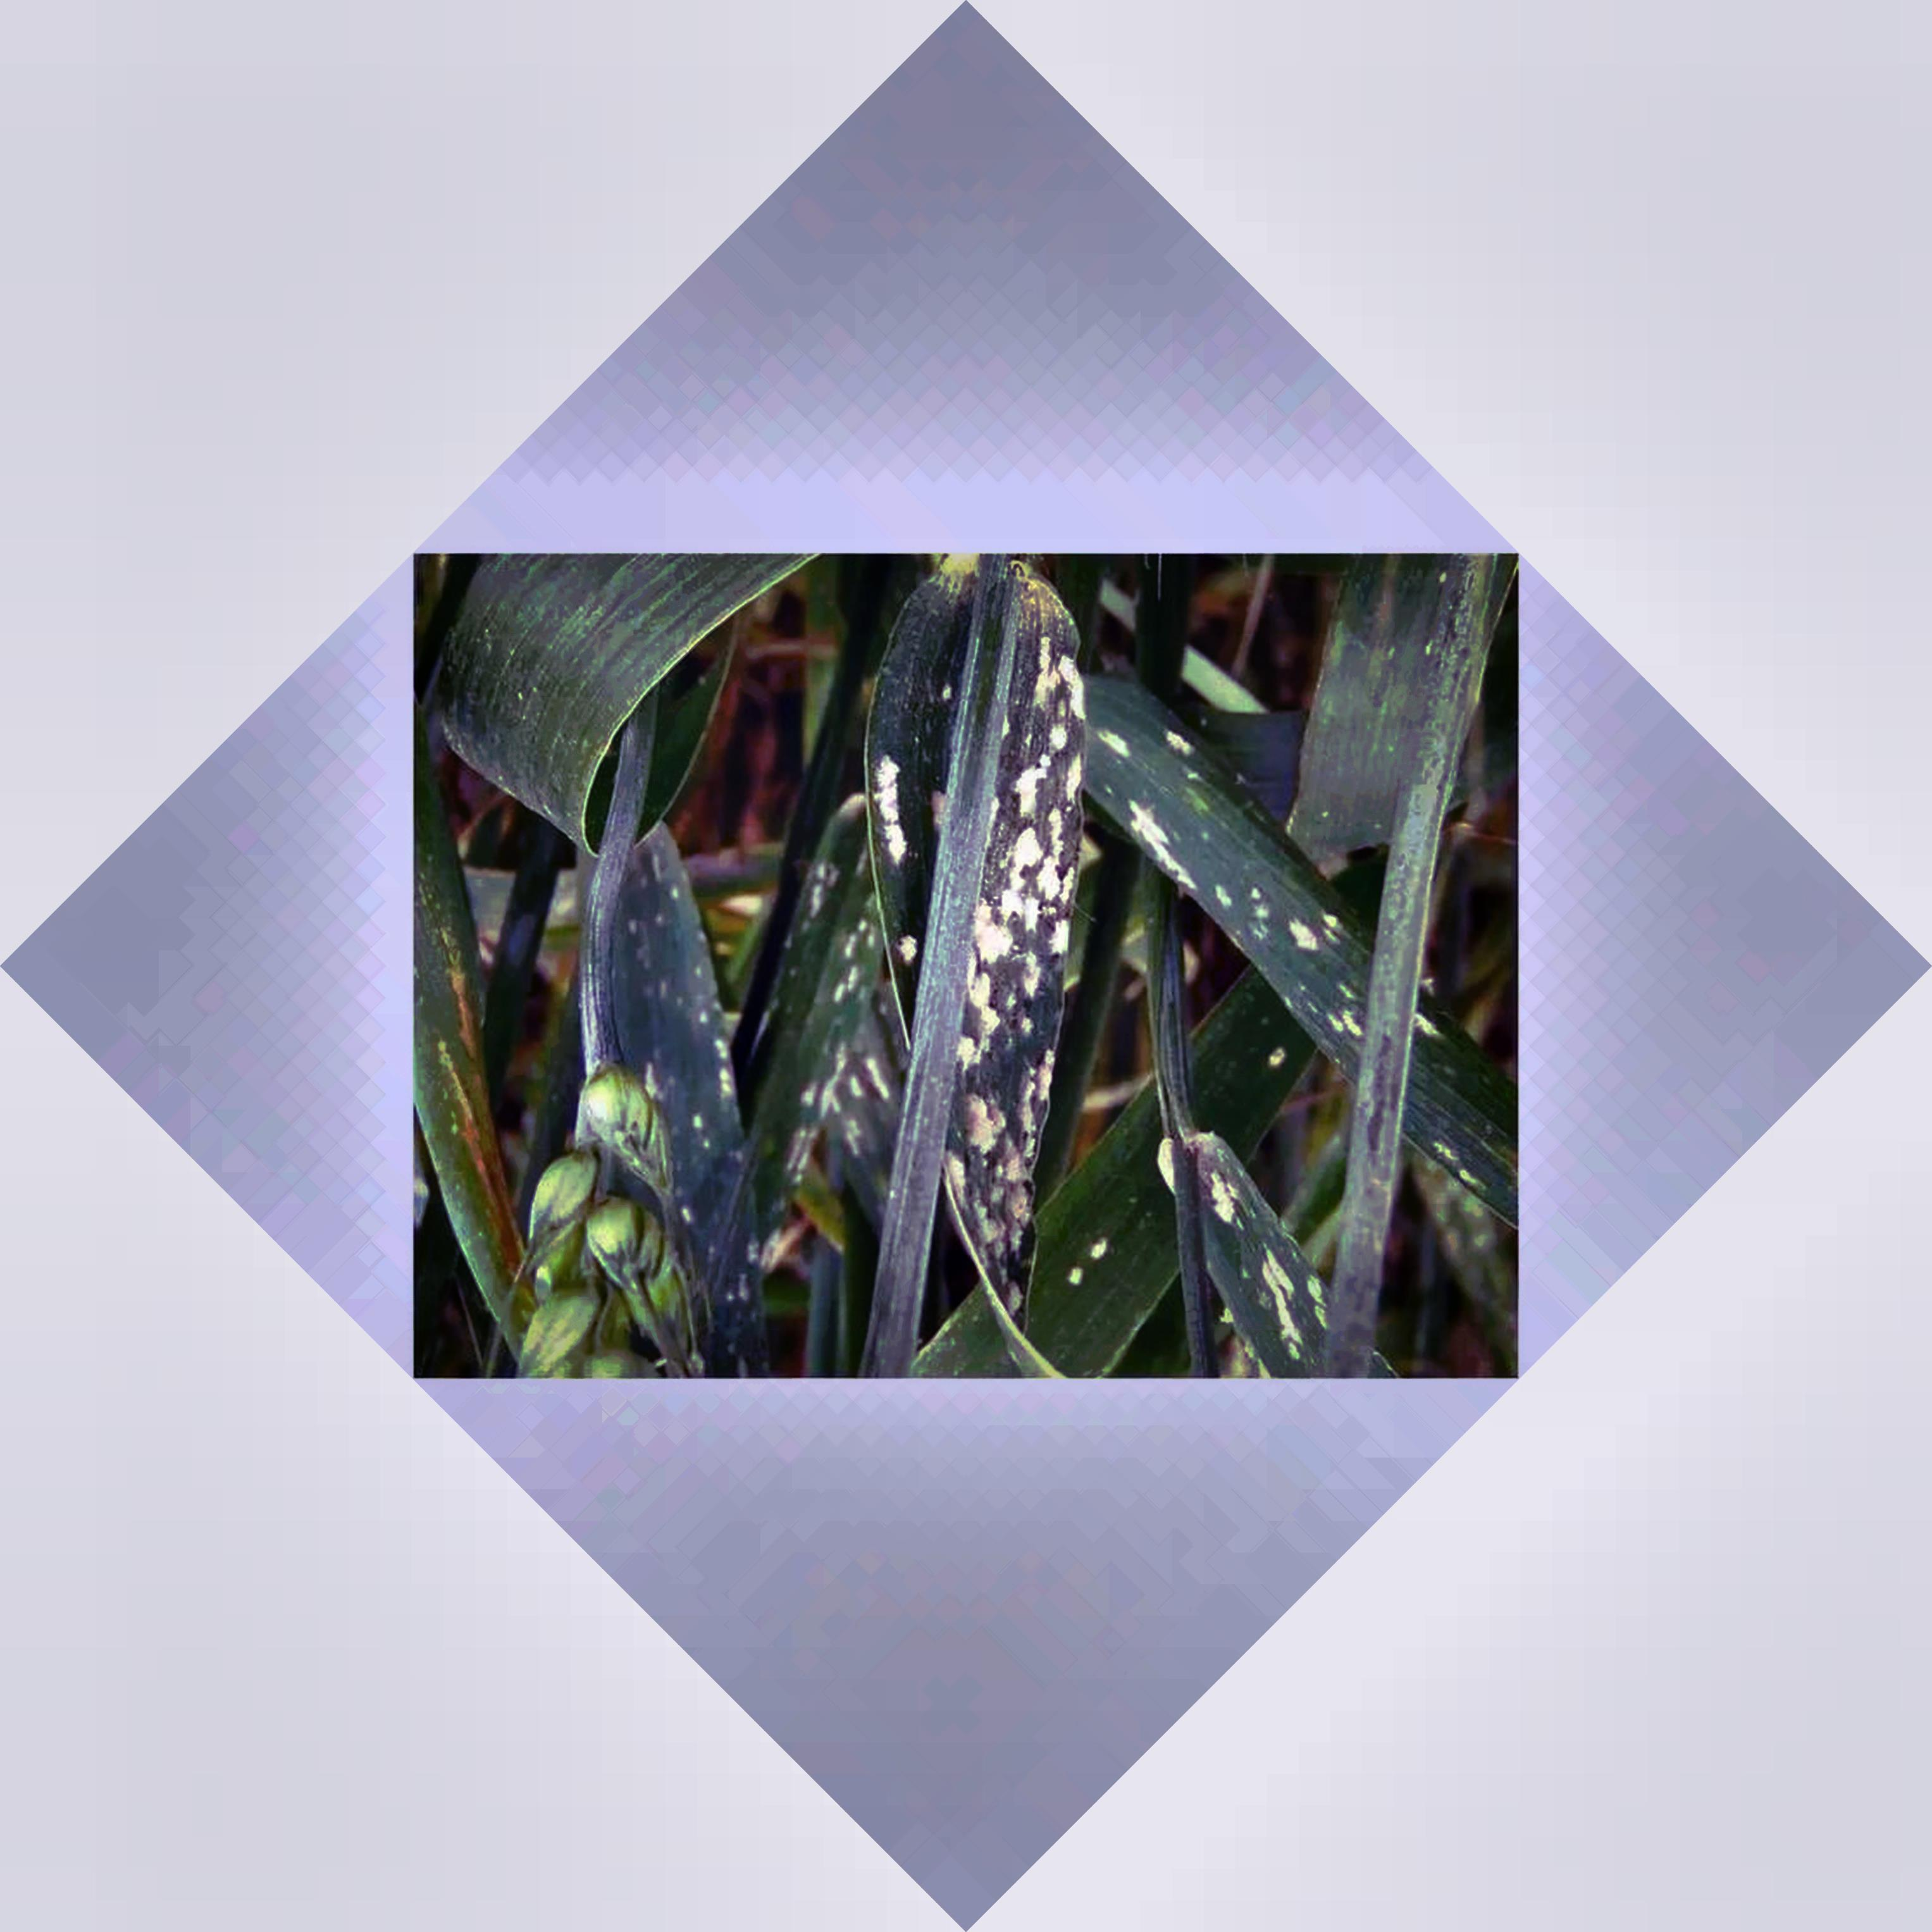Powdery Mildew: (860, 614, 1088, 1274)
